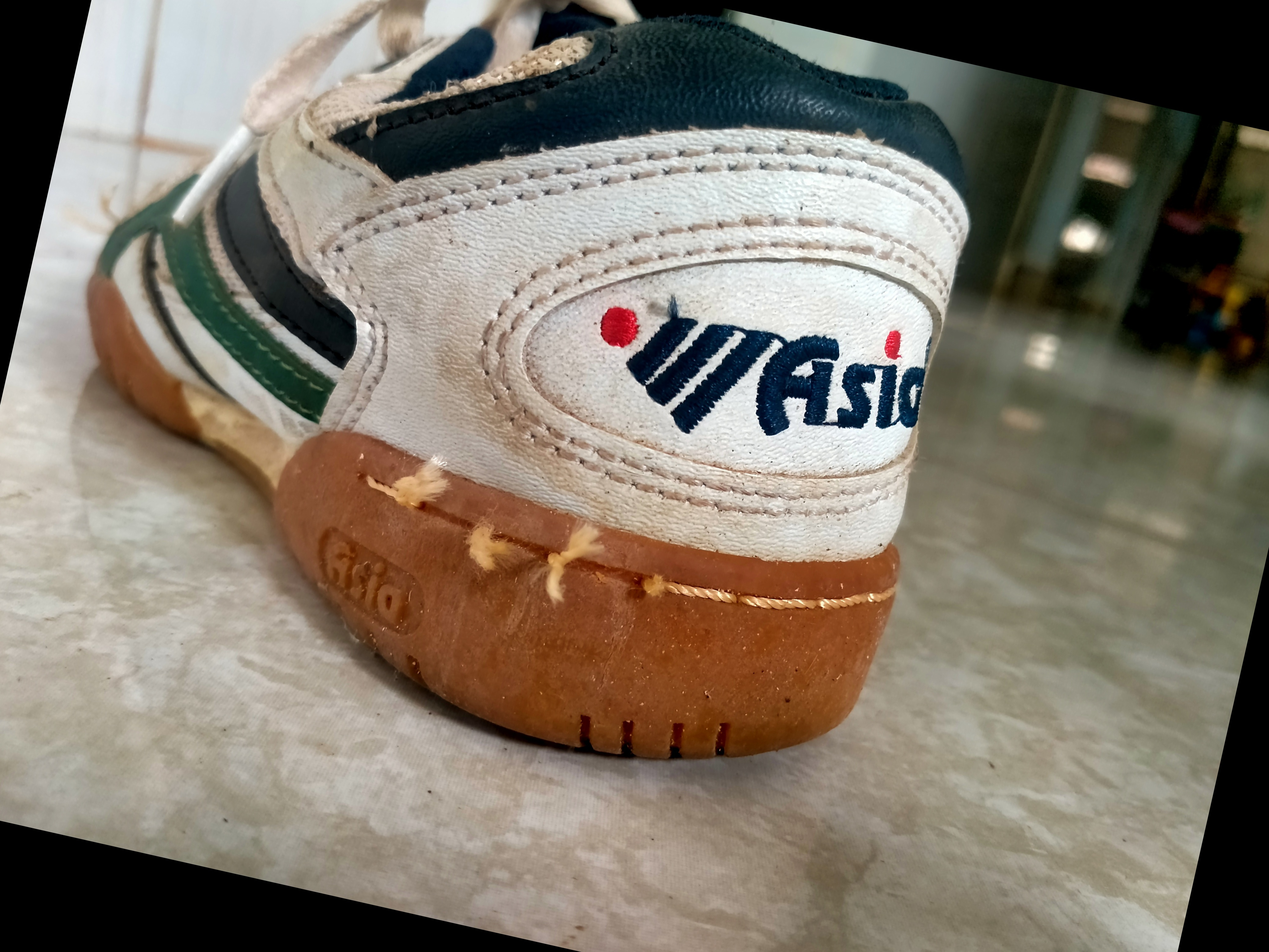broken: (369, 473, 690, 622)
